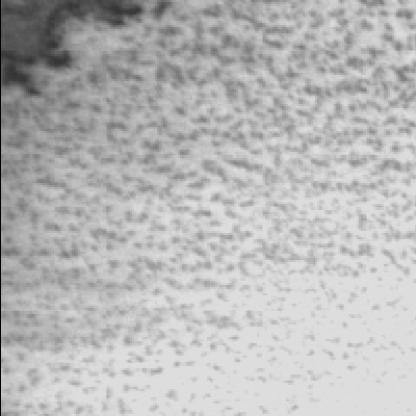patches: (0, 7, 139, 100)
pitted_surface: (18, 10, 410, 414)
